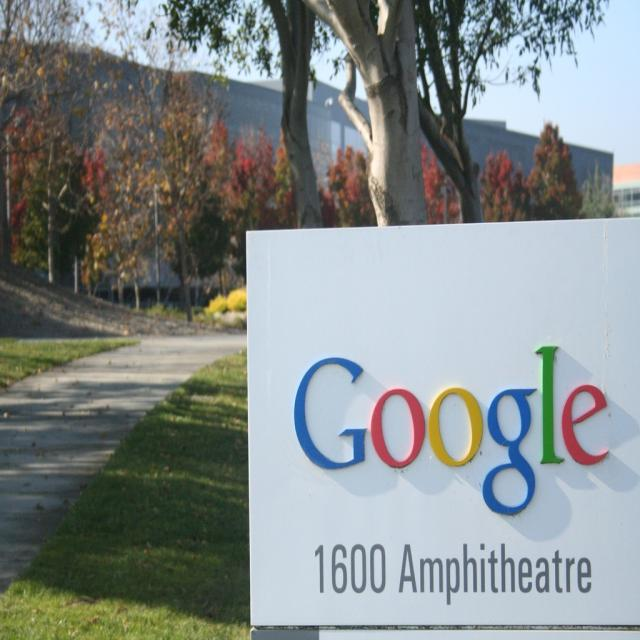google: (289, 333, 614, 523)
